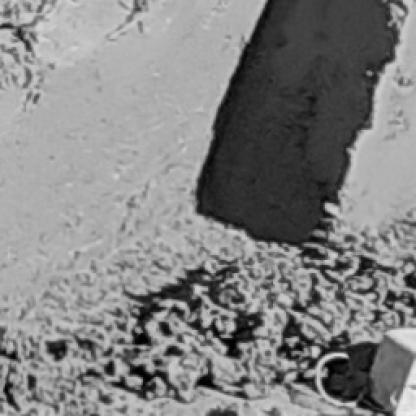cementitious_debris: (1, 191, 414, 413)
